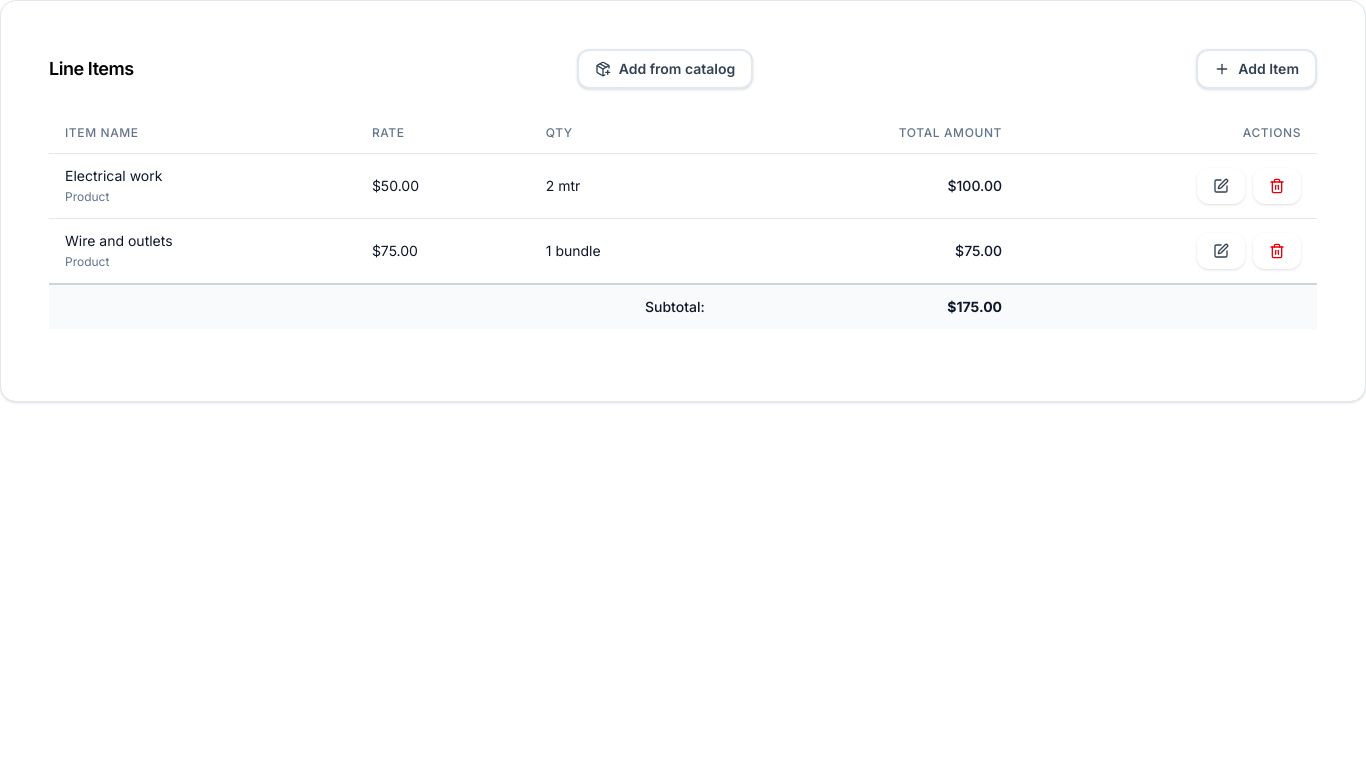
Test: LineItemsTable › should show add form when add button is clicked
Click the button "Add Item" at (1257, 69), box [1196,49,1317,89]
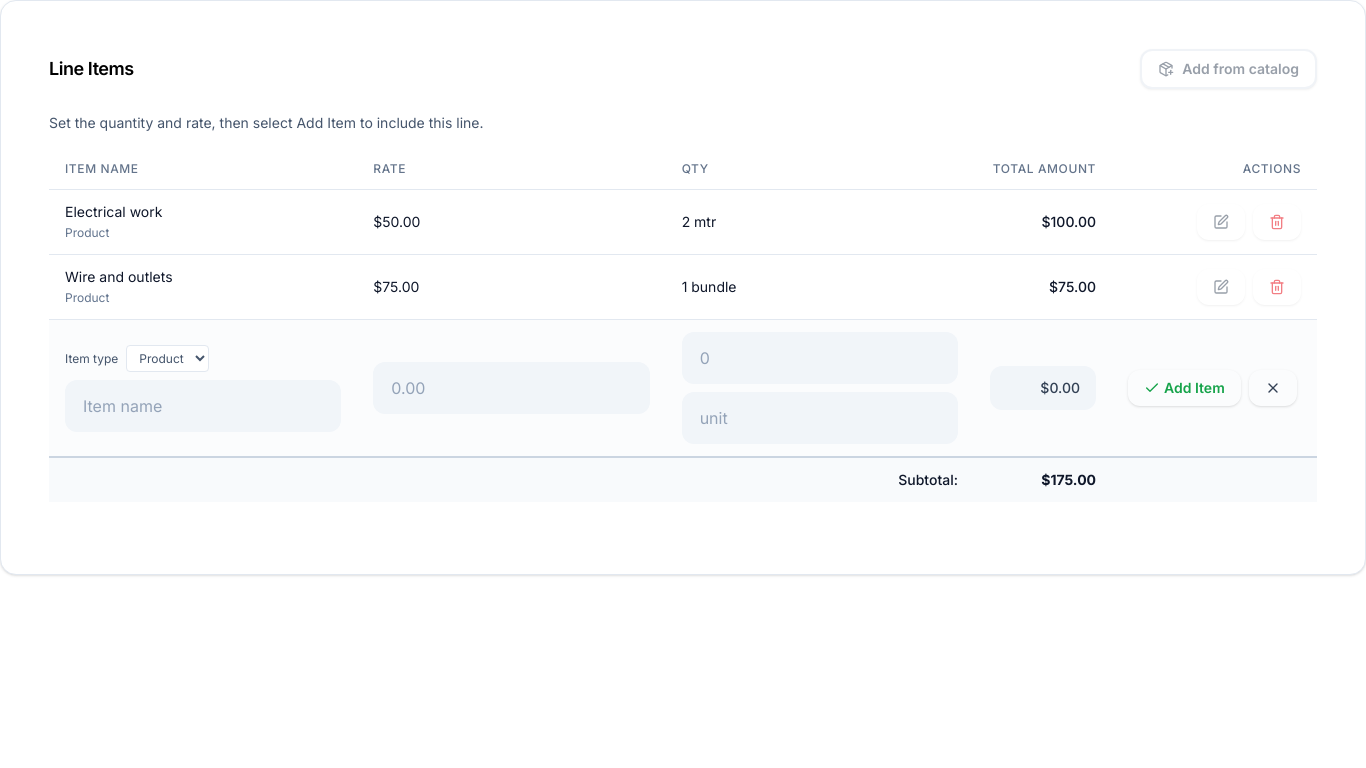
Expected: the field with placeholder "Item name" is shown, [65,380,341,432]
